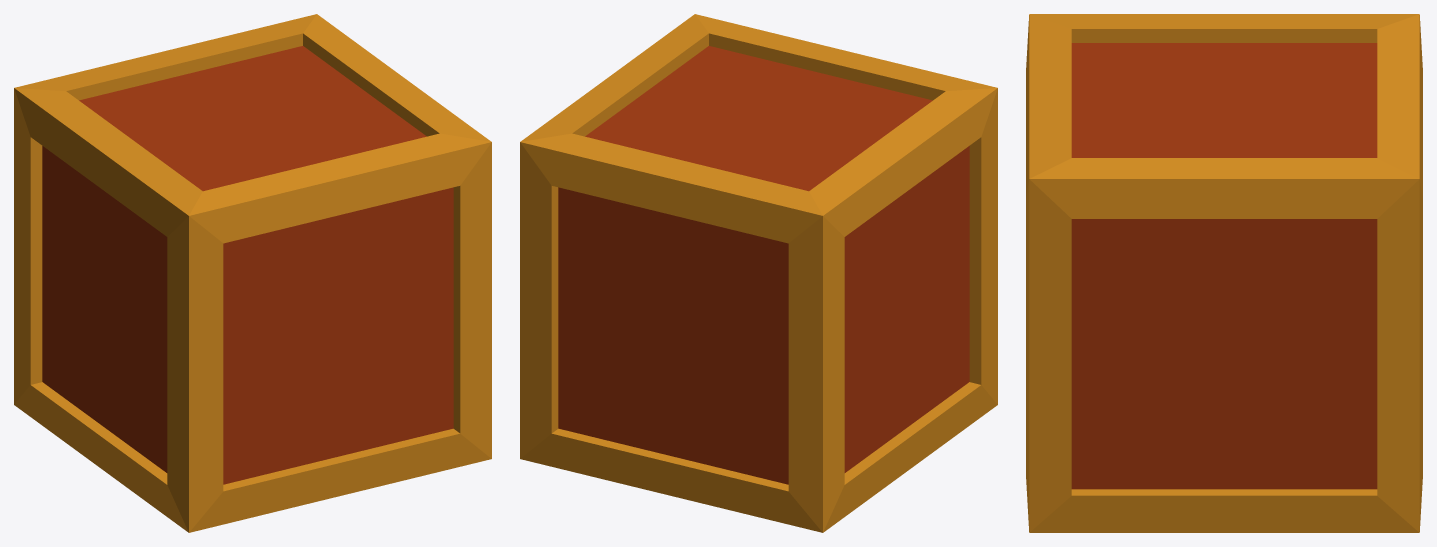
Rendered from Small Crate 001.FBX.
3 views of the same model, side by side, from view 1: azimuth 30°, elevation 25°; view 2: azimuth 150°, elevation 25°; view 3: azimuth 270°, elevation 25° (orthographic). The views are drawn at different scales.
Visible parts, largest first — view 1: Small Crate; view 2: Small Crate; view 3: Small Crate.
Boxes of the visible parts, x1,y1,x2,y2 form: Small Crate: (14,14,491,532); Small Crate: (520,14,997,532); Small Crate: (1026,14,1422,532).
Size of the model in its own units: 0.52 by 0.52 by 0.52.
